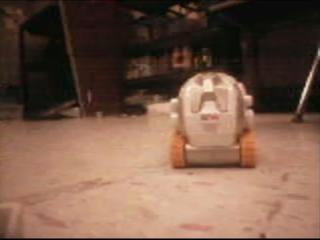cozmo: (168, 69, 257, 168)
